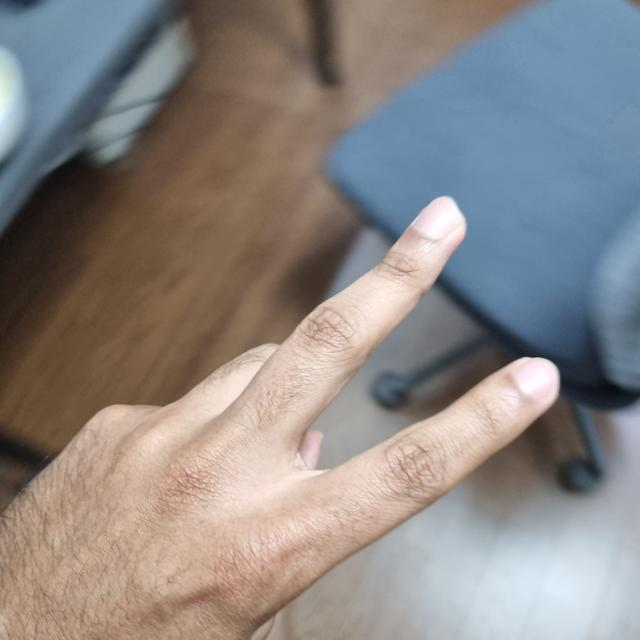Scissors: (2, 198, 560, 638)
